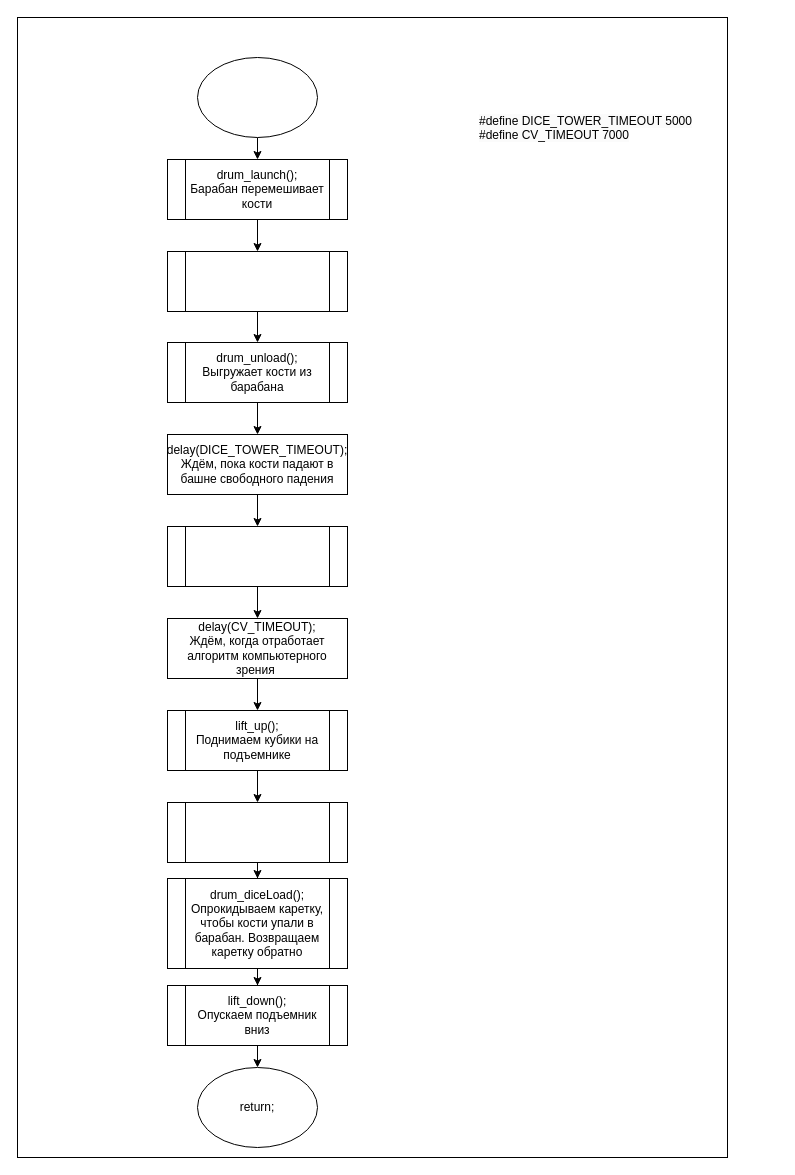
The diagram is 795 pixels wide and 1175 high, and some of its shapes have lost their labels. Each missing label, with the centre of its shape:
CV_launch(); Запускаем компьютерное зрение: the point at 257,556
drum_moveLoad(); Устанавливаем барабан в позицию для загрузки: the point at 257,832
drum_stop(); Останавливает барабан: the point at 257,281
void launch_cycle(): the point at 257,97
